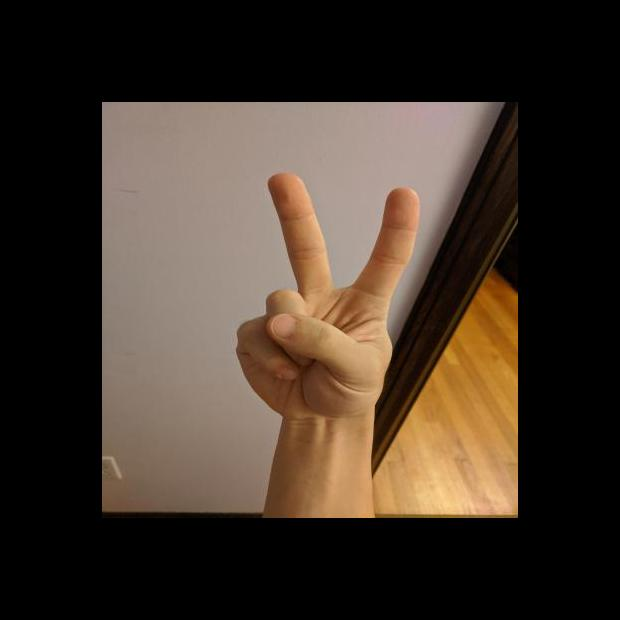U: (231, 169, 426, 416)
